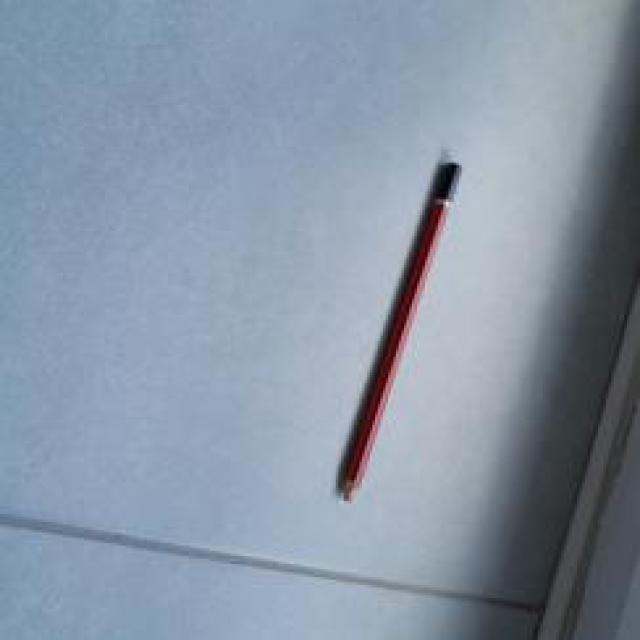pencil: (336, 162, 462, 503)
